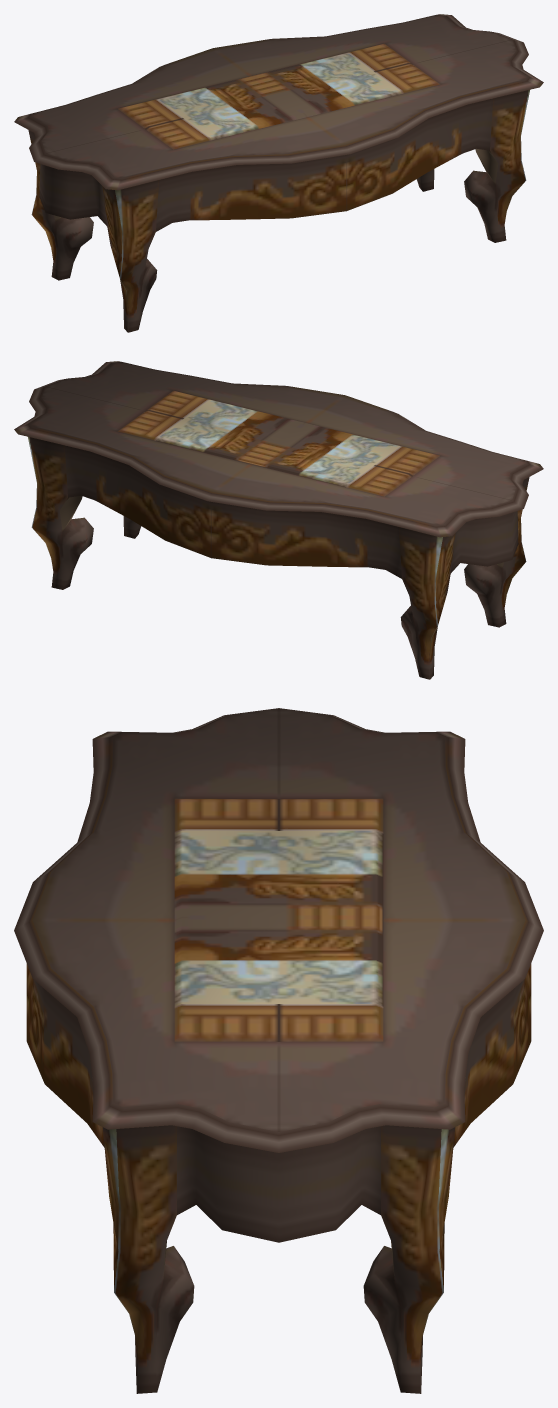
The model's file is rmk_rcc_tableM.dae.
3 views of the same model, one above another, from view 1: azimuth 30°, elevation 25°; view 2: azimuth 150°, elevation 25°; view 3: azimuth 270°, elevation 25° (orthographic). The views are drawn at different scales.
Visible parts, largest first — view 1: rmk_rcc_tableM; view 2: rmk_rcc_tableM; view 3: rmk_rcc_tableM.
Part boxes in pixels (bbox=[...]): rmk_rcc_tableM: bbox=[14, 14, 543, 332]; rmk_rcc_tableM: bbox=[14, 361, 543, 679]; rmk_rcc_tableM: bbox=[14, 708, 543, 1393].
Size of the model in its own units: 62.97 by 20.11 by 31.69.
Materials: 1 (1 with a texture image).
